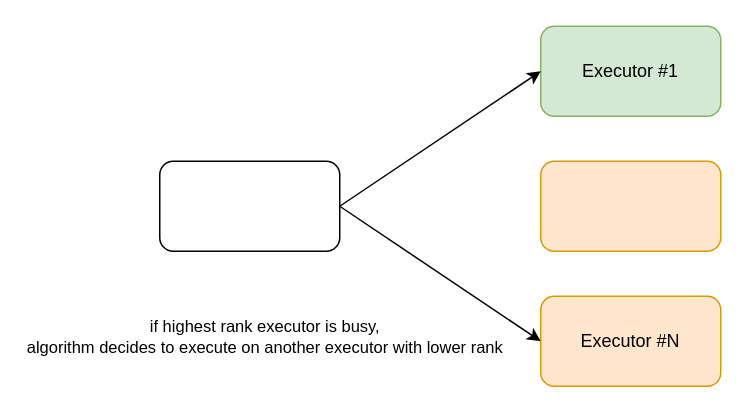
Image size: 747x413. Some labels were removed from this diagram. The centre of each missing label's shape, as x and y in pixels:
"Coordinator" goes at point 249,205.
"Executor #2" goes at point 630,205.
